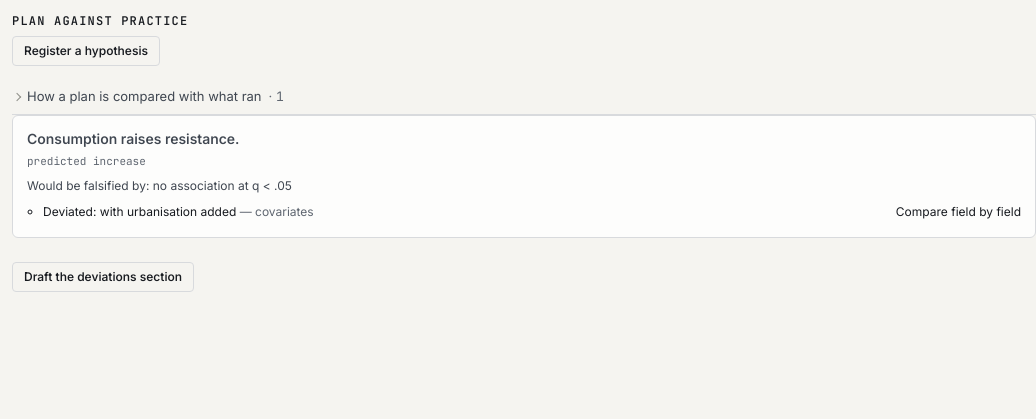
Test case: one registration against one analysis › reports a failed comparison in the server's words
The image size is (1036, 419).
Step 1. Click the button "Compare field by field" → point(958, 212), box 896,203 -> 1021,221
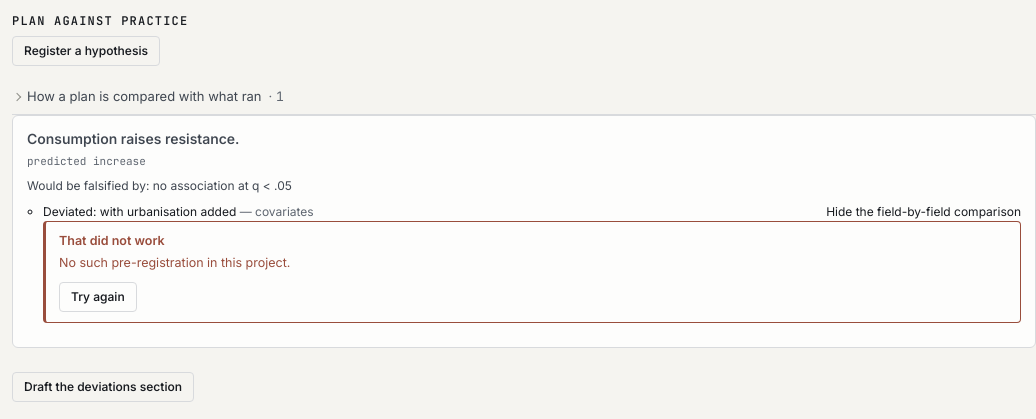
Expected: the text "No such pre-registration in this project." is shown, 59,255 -> 290,270
